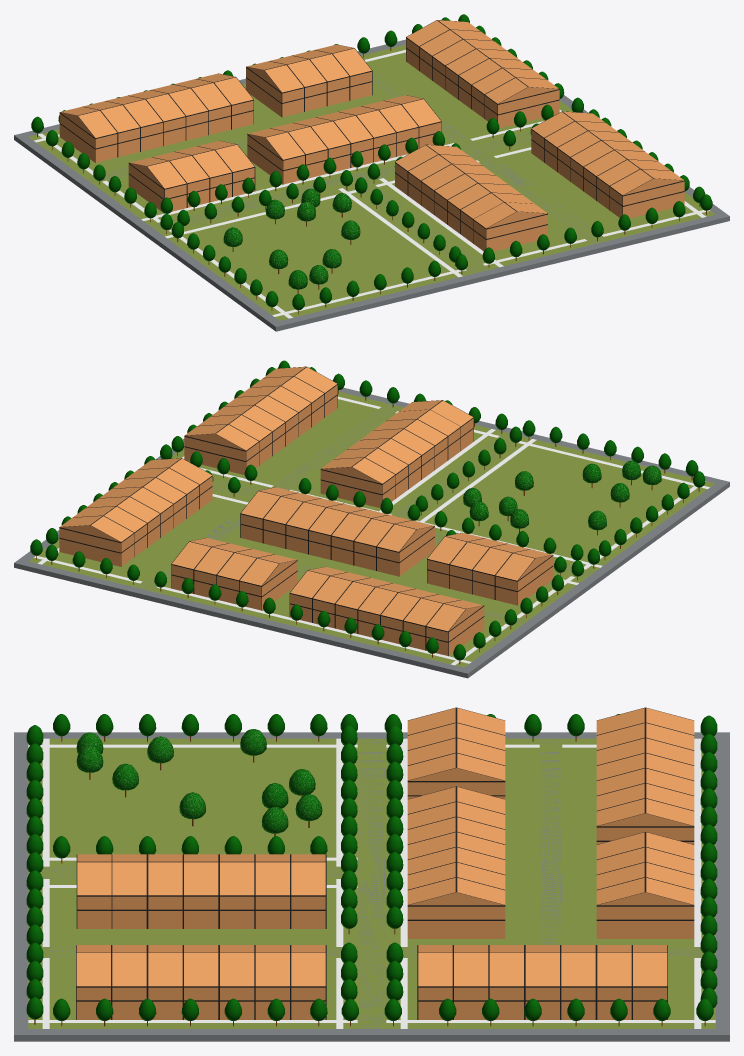
File: townhomes_B.dae
3 views of the same model, one above another, from view 1: azimuth 30°, elevation 25°; view 2: azimuth 150°, elevation 25°; view 3: azimuth 270°, elevation 25° (orthographic). The views are drawn at different scales.
Parts seen in each view (by area): view 1: group_8 (×18), Component_9 (×49); view 2: group_8 (×17), Component_9 (×49); view 3: group_8 (×18), Component_9 (×85), Tree_z_Icon_3_1 (×9).
Boxes of the visible parts, x1,y1,x2,y2 form: group_8 (×18): [14, 39, 729, 331]; Component_9 (×49): [78, 20, 684, 251]; group_8 (×17): [14, 387, 729, 678]; Component_9 (×49): [59, 367, 534, 631]; group_8 (×18): [14, 732, 729, 1041]; Component_9 (×85): [76, 708, 694, 1019]; Tree_z_Icon_3_1 (×9): [76, 729, 322, 833].
Bounding box in the file's own units: 102 × 102 × 8.36.
